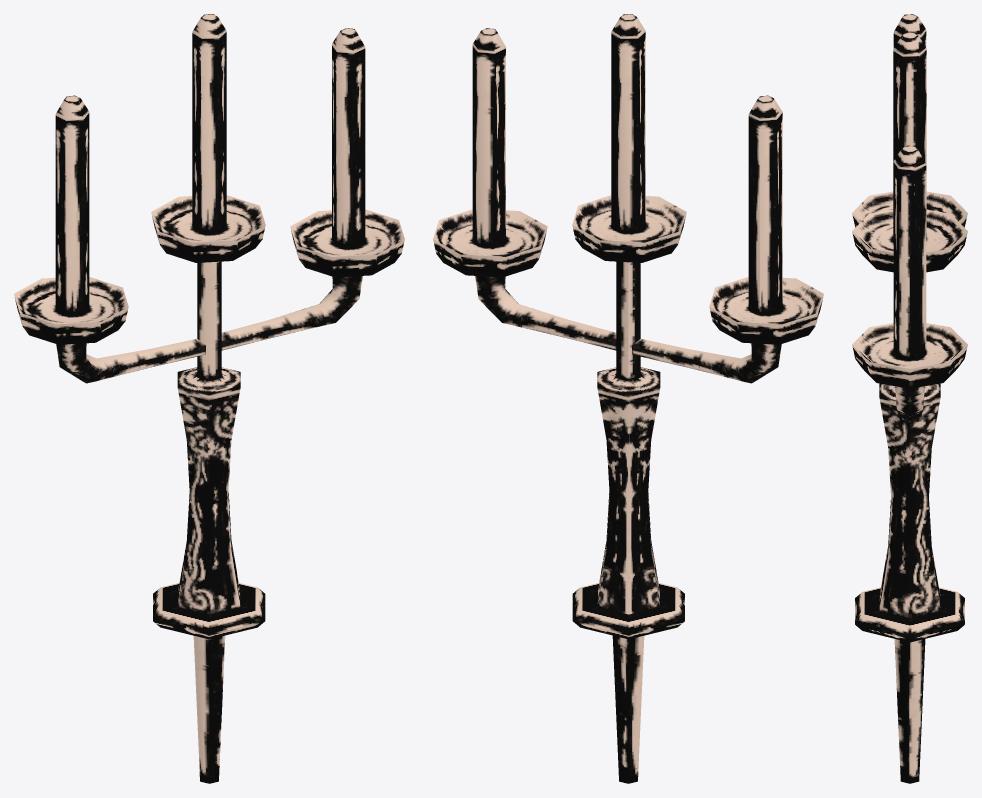
File: bl0158-color.glb
The picture shows the model from 3 angles, left to right: view 1: azimuth 30°, elevation 25°; view 2: azimuth 150°, elevation 25°; view 3: azimuth 270°, elevation 25°; orthographic projection. The views are drawn at different scales.
Parts seen in each view (by area): view 1: role_0; view 2: role_0; view 3: role_0.
Part boxes in pixels (x1=…): role_0: x1=14, y1=14, x2=404, y2=783; role_0: x1=433, y1=14, x2=823, y2=783; role_0: x1=852, y1=14, x2=967, y2=783.
Size of the model in its own units: 0.5049 by 0.97 by 0.137.
1 material, 1 textured.
